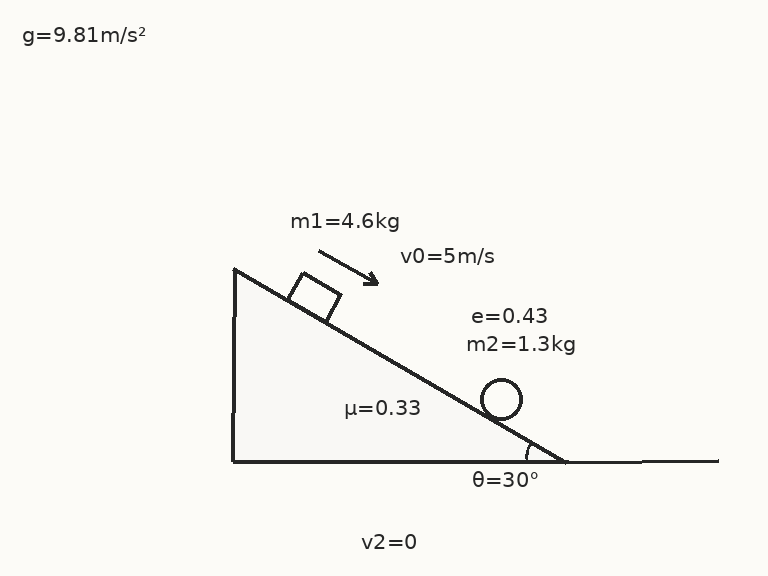ball: (478, 376, 524, 422)
block: (285, 270, 343, 324)
ramp: (231, 267, 568, 463)
